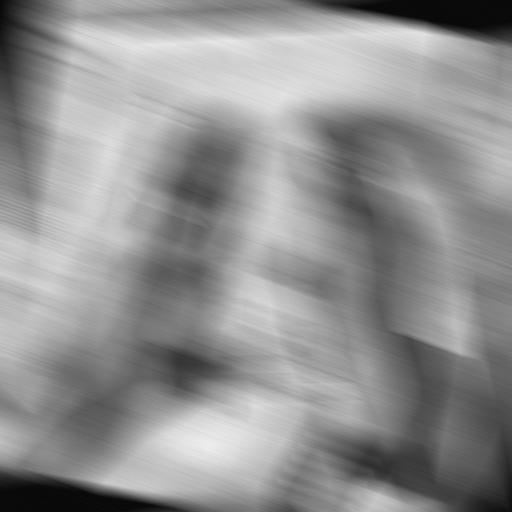bottom_right: (398, 483, 430, 510)
house: (62, 78, 440, 414)
top_left: (80, 23, 109, 45)
